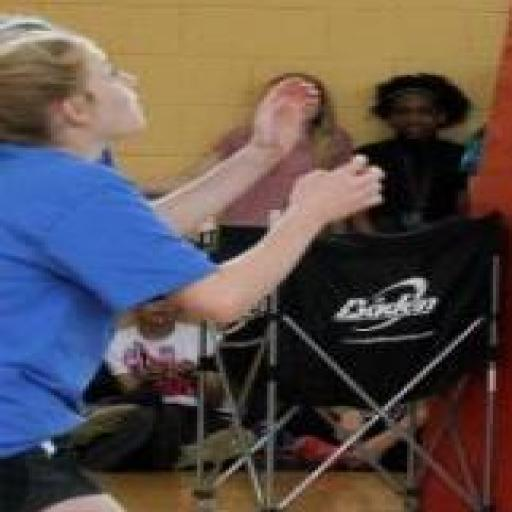person: (0, 29, 381, 511), (105, 301, 225, 470), (357, 73, 470, 231)
